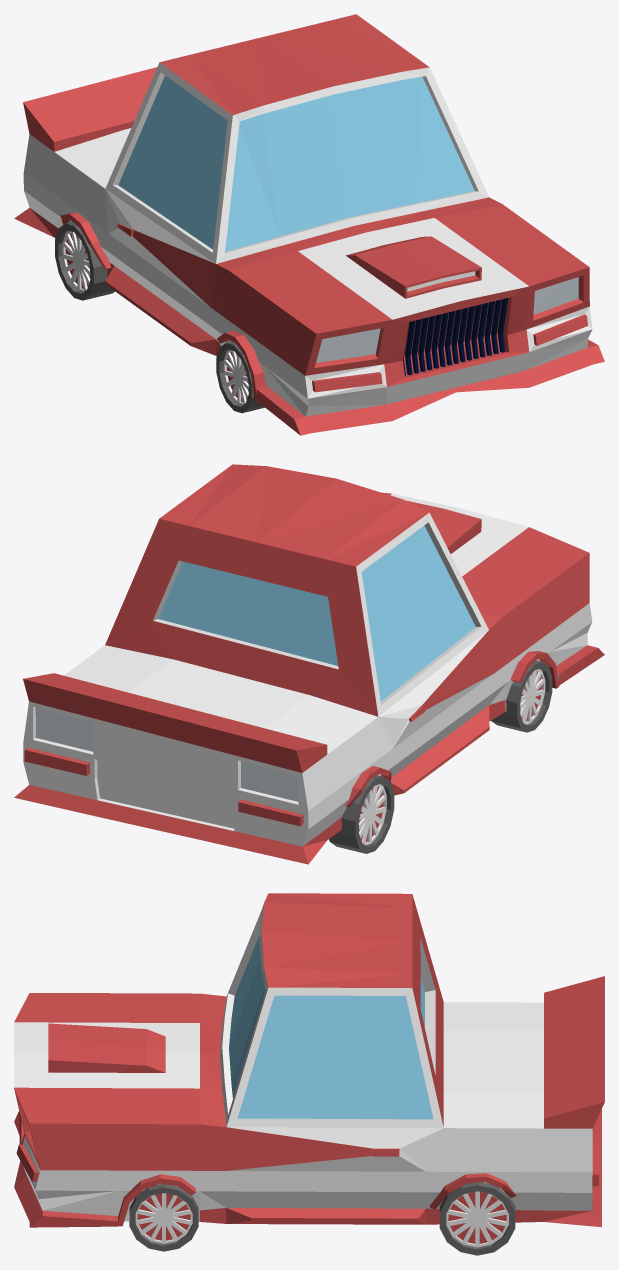
File: car.dae
The picture shows the model from 3 angles, top to bottom: view 1: azimuth 30°, elevation 25°; view 2: azimuth 150°, elevation 25°; view 3: azimuth 270°, elevation 25°; orthographic projection.
Visible parts, largest first — view 1: body, lattice_1, wheel_1, headlight, wheel1_1, front_fender, rear_fender; view 2: body, backlight, wheel_1, wheel1_1, front_fender, rear_fender; view 3: body, wheel_1, wheel1_1, front_fender, rear_fender.
Boxes of the visible parts, bbox=[...] form: body: bbox=[14, 14, 604, 435]; lattice_1: bbox=[403, 298, 508, 376]; wheel_1: bbox=[55, 221, 114, 300]; headlight: bbox=[316, 277, 578, 362]; wheel1_1: bbox=[216, 341, 264, 413]; front_fender: bbox=[217, 330, 266, 402]; rear_fender: bbox=[60, 212, 111, 268]; body: bbox=[14, 464, 604, 864]; backlight: bbox=[35, 707, 298, 801]; wheel_1: bbox=[329, 775, 394, 853]; wheel1_1: bbox=[491, 660, 552, 732]; front_fender: bbox=[510, 651, 559, 688]; rear_fender: bbox=[345, 766, 391, 806]; body: bbox=[14, 893, 604, 1227]; wheel_1: bbox=[439, 1182, 515, 1255]; wheel1_1: bbox=[129, 1184, 198, 1251]; front_fender: bbox=[118, 1174, 195, 1226]; rear_fender: bbox=[430, 1173, 516, 1209].
Bounding box in the file's own units: 1.38 × 2.36 × 1.11.
